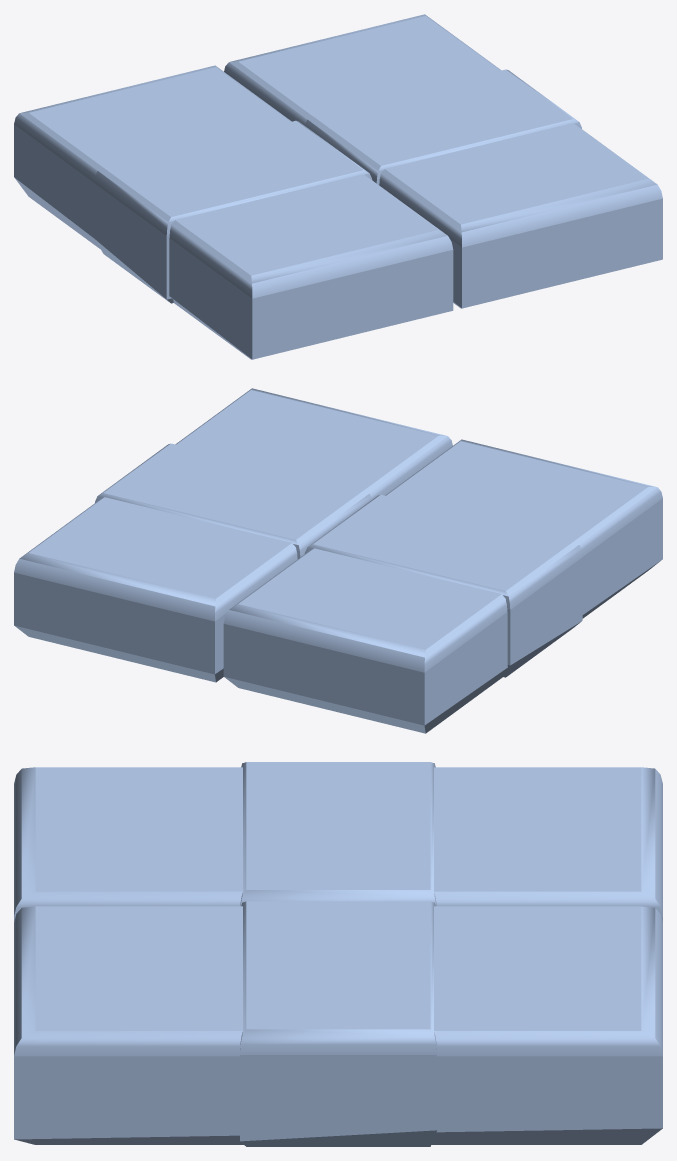
Rendered from Cash.fbx.
3 views of the same model, one above another, from view 1: azimuth 30°, elevation 25°; view 2: azimuth 150°, elevation 25°; view 3: azimuth 270°, elevation 25° (orthographic). The views are drawn at different scales.
Parts seen in each view (by area): view 1: Cash1, Cash2, CashStrap1, CashStrap2; view 2: Cash1, Cash2, CashStrap1, CashStrap2; view 3: Cash2, Cash1, CashStrap2, CashStrap1.
Boxes of the visible parts, x1,y1,x2,y2 form: Cash1: [14, 65, 453, 359]; Cash2: [224, 14, 662, 308]; CashStrap1: [94, 120, 372, 303]; CashStrap2: [305, 69, 581, 184]; Cash1: [223, 439, 662, 733]; Cash2: [14, 388, 452, 682]; CashStrap1: [304, 494, 582, 677]; CashStrap2: [95, 443, 371, 558]; Cash2: [14, 906, 662, 1144]; Cash1: [14, 767, 662, 921]; CashStrap2: [240, 901, 436, 1146]; CashStrap1: [240, 762, 436, 906].
Bounding box in the file's own units: 39.67 × 7.87 × 39.37.
